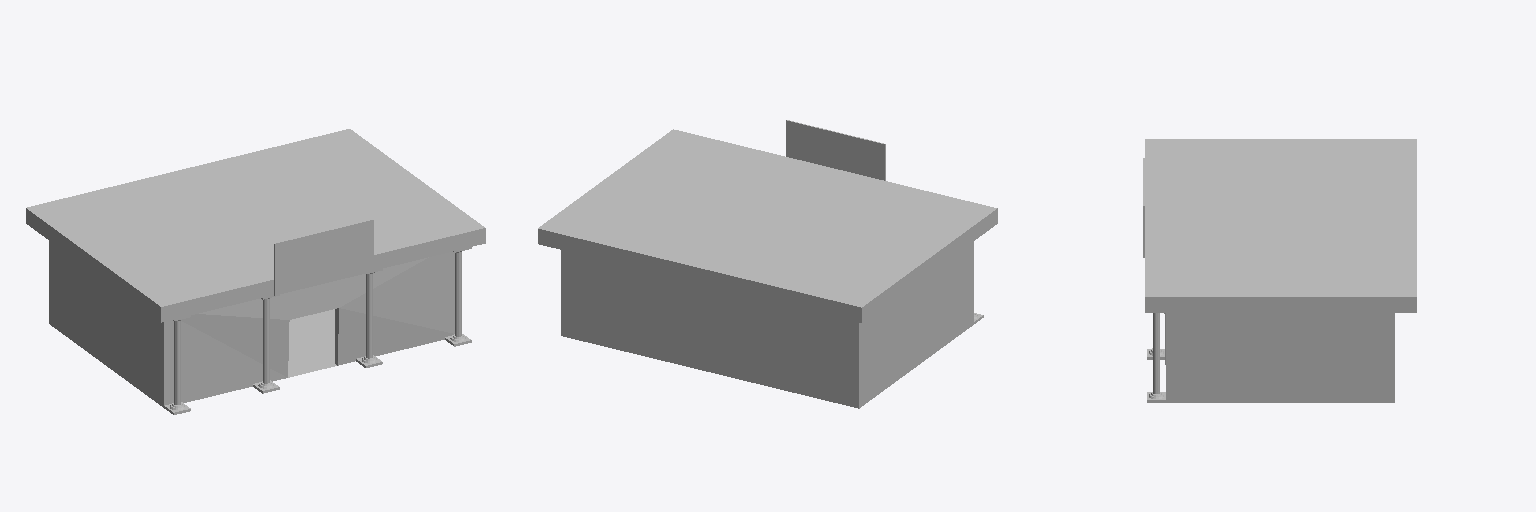
File: casino.obj
3 renders of one model, left to right at view 1: azimuth 30°, elevation 25°; view 2: azimuth 150°, elevation 25°; view 3: azimuth 270°, elevation 25°, orthographic.
Visible parts, largest first — view 1: Cube_Cube.001; view 2: Cube_Cube.001; view 3: Cube_Cube.001.
Boxes of the visible parts, x1,y1,x2,y2 form: Cube_Cube.001: [26, 129, 485, 414]; Cube_Cube.001: [538, 120, 997, 408]; Cube_Cube.001: [1143, 139, 1416, 402].
Size of the model in its own units: 6.54 by 2.86 by 4.77.